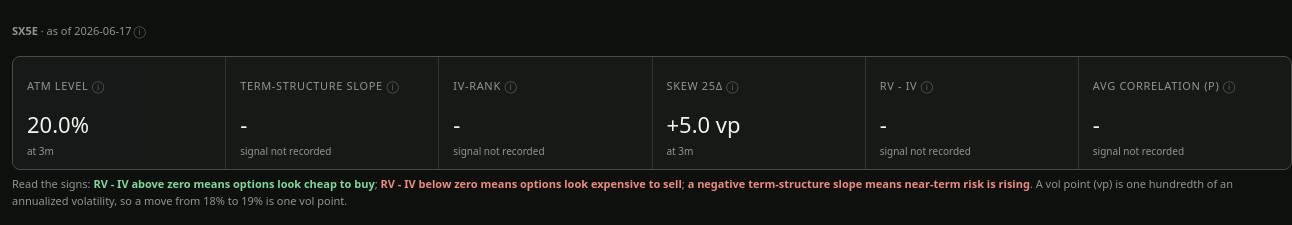
Test: Scorecards, provenance line binds to live state › a provenance InfoDot names where each number came from and cites the source capture
Hover over the button named "where these numbers come from" at (140, 31), box 132,12 -> 148,50
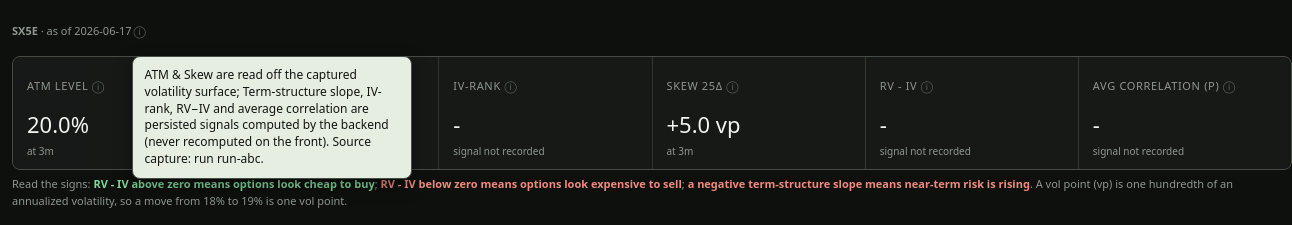
Expected: the tooltip shows "persisted signals", 145,66 -> 389,167
Expected: the tooltip shows "run run-abc", 145,66 -> 389,167
